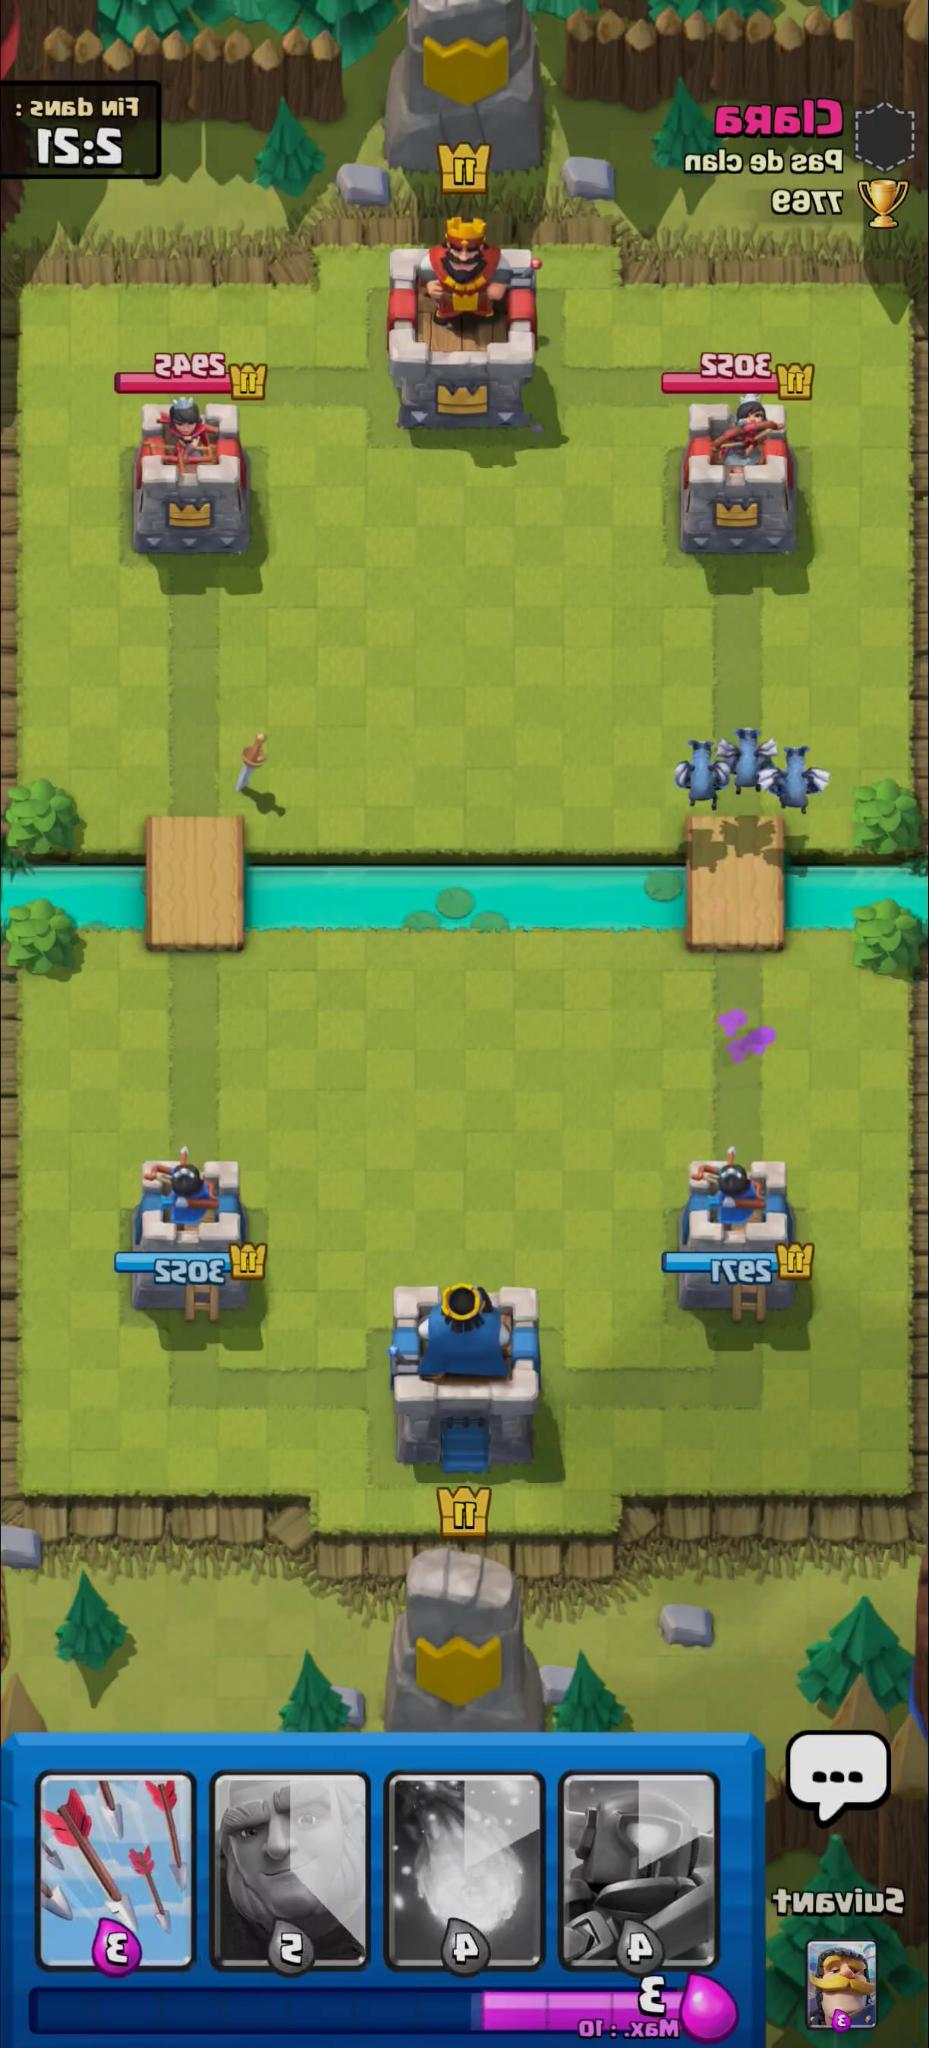gargouille: (757, 748, 828, 810), (672, 739, 729, 810), (720, 726, 777, 794)
